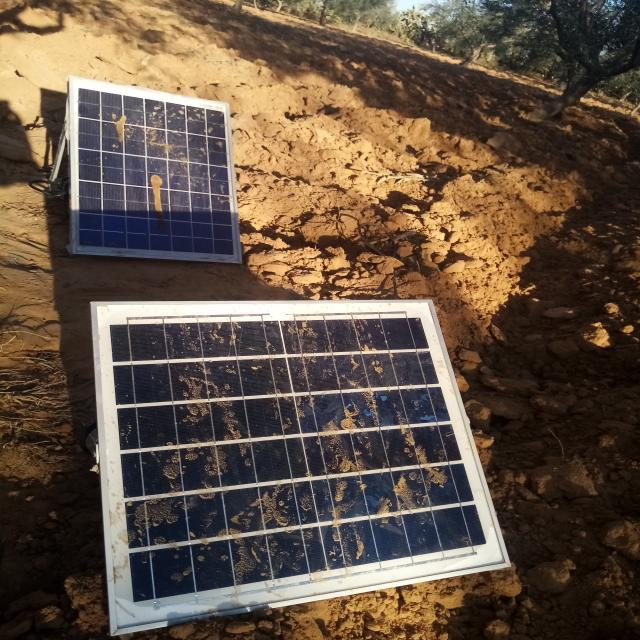faulty: (93, 299, 513, 635), (72, 80, 244, 263)
